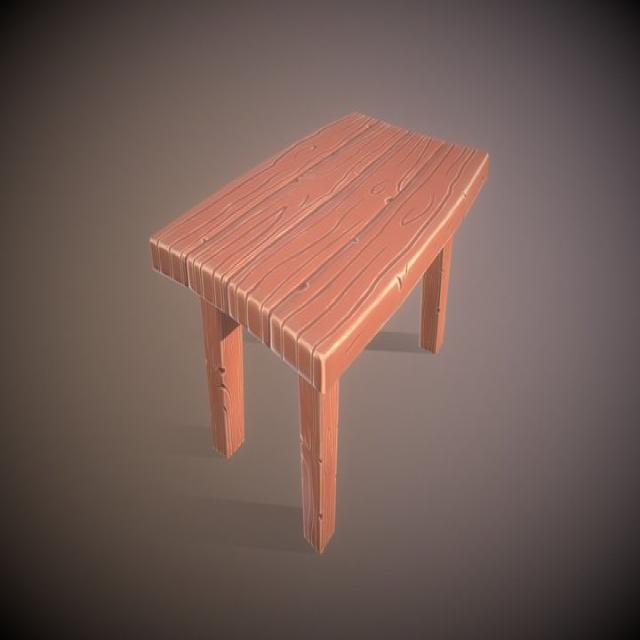table: (150, 110, 488, 558)
